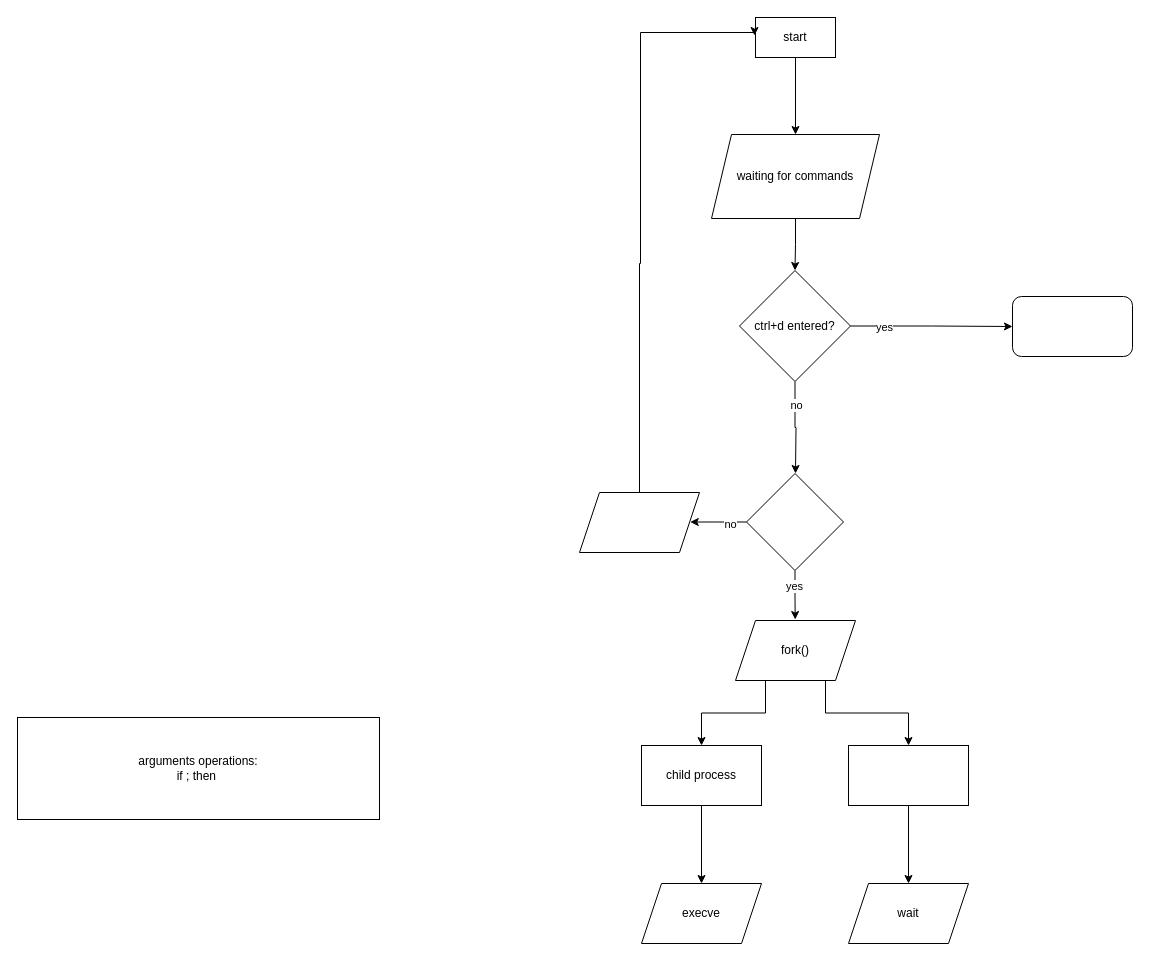
Some shapes in this 1150 by 961 pixel diagram are drawn without their labels. The shapes that lost their labels are listed below. From the top down, each one's box as (x1, y1, x2, y2) in pixels, then its label:
(1012, 296, 1132, 356): exit
(578, 492, 700, 552): print error
(746, 472, 844, 570): commands exist?
(848, 744, 968, 806): parent process
